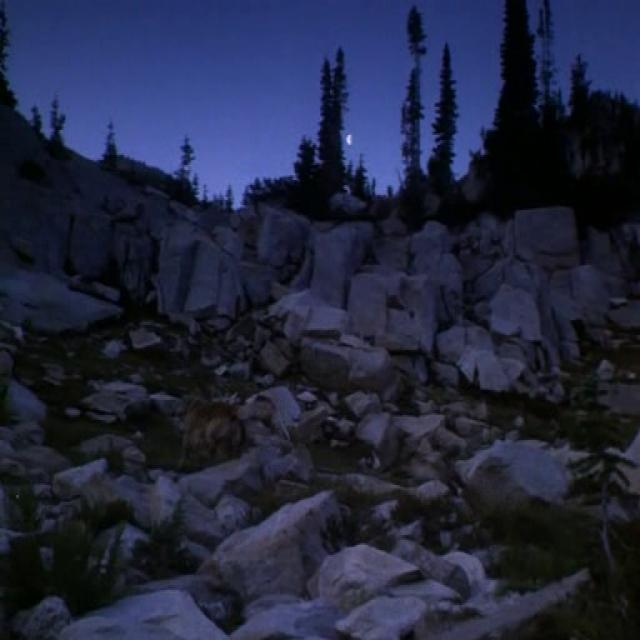dog: (126, 386, 251, 477)
